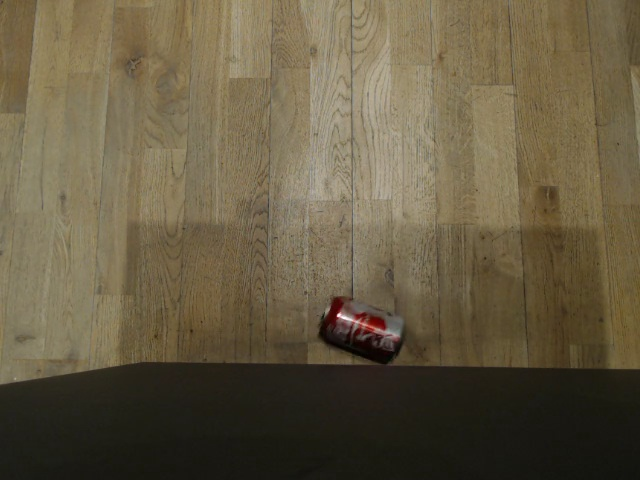coke: (317, 288, 404, 362)
